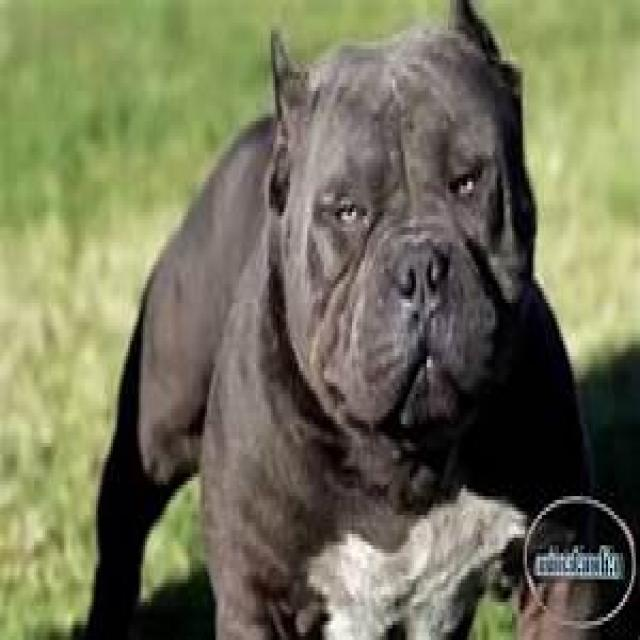dog: (81, 0, 595, 640)
